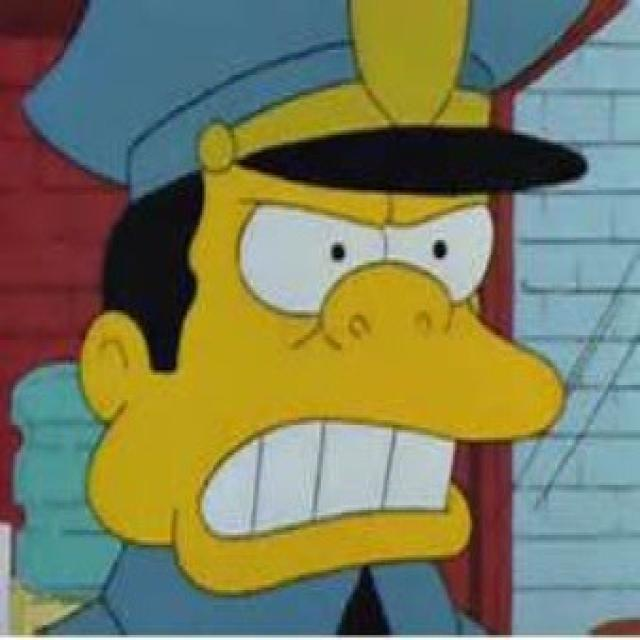Chief Wiggam: (21, 0, 587, 590)
